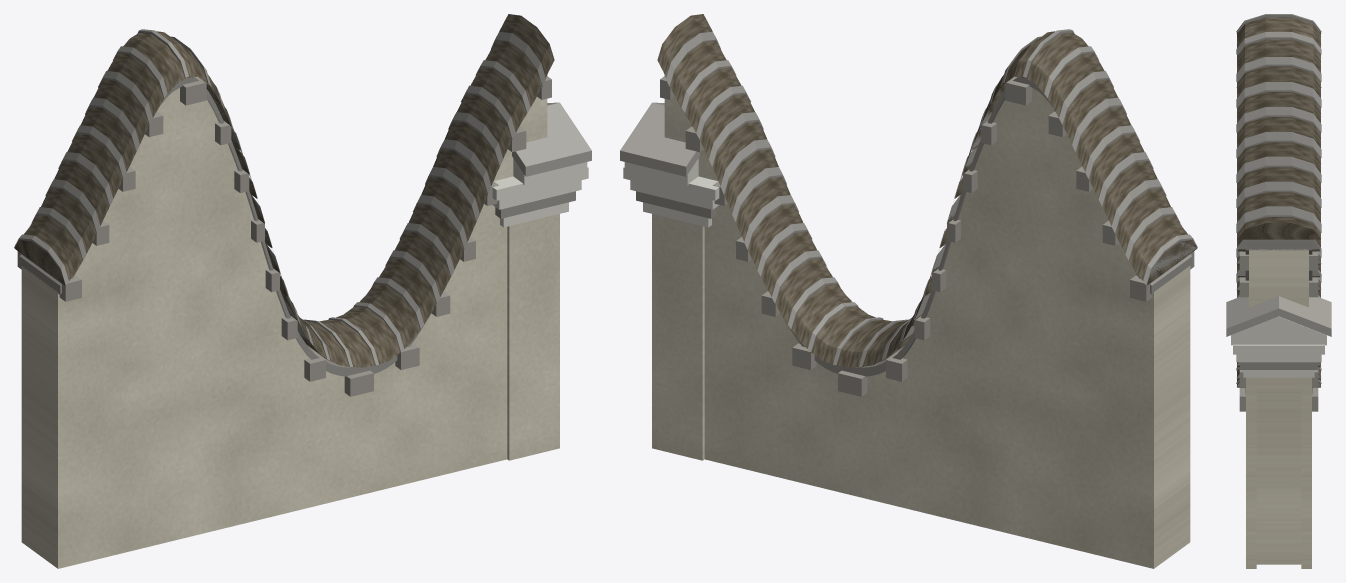
File: ye-cotton-shop-saddle-gable-far.glb
The picture shows the model from 3 angles, left to right: view 1: azimuth 30°, elevation 25°; view 2: azimuth 150°, elevation 25°; view 3: azimuth 270°, elevation 25°; orthographic projection. The views are drawn at different scales.
Visible parts, largest first — view 1: 新场叶氏花行120号院内凹曲山墙与叠瓦压顶; view 2: 新场叶氏花行120号院内凹曲山墙与叠瓦压顶; view 3: 新场叶氏花行120号院内凹曲山墙与叠瓦压顶.
Boxes of the visible parts, <box> form: 新场叶氏花行120号院内凹曲山墙与叠瓦压顶: <box>14,14,591,568</box>; 新场叶氏花行120号院内凹曲山墙与叠瓦压顶: <box>620,14,1197,568</box>; 新场叶氏花行120号院内凹曲山墙与叠瓦压顶: <box>1226,14,1331,568</box>.
Size of the model in its own units: 2.15 by 1.93 by 0.458.
Materials: 7 (2 with a texture image).
